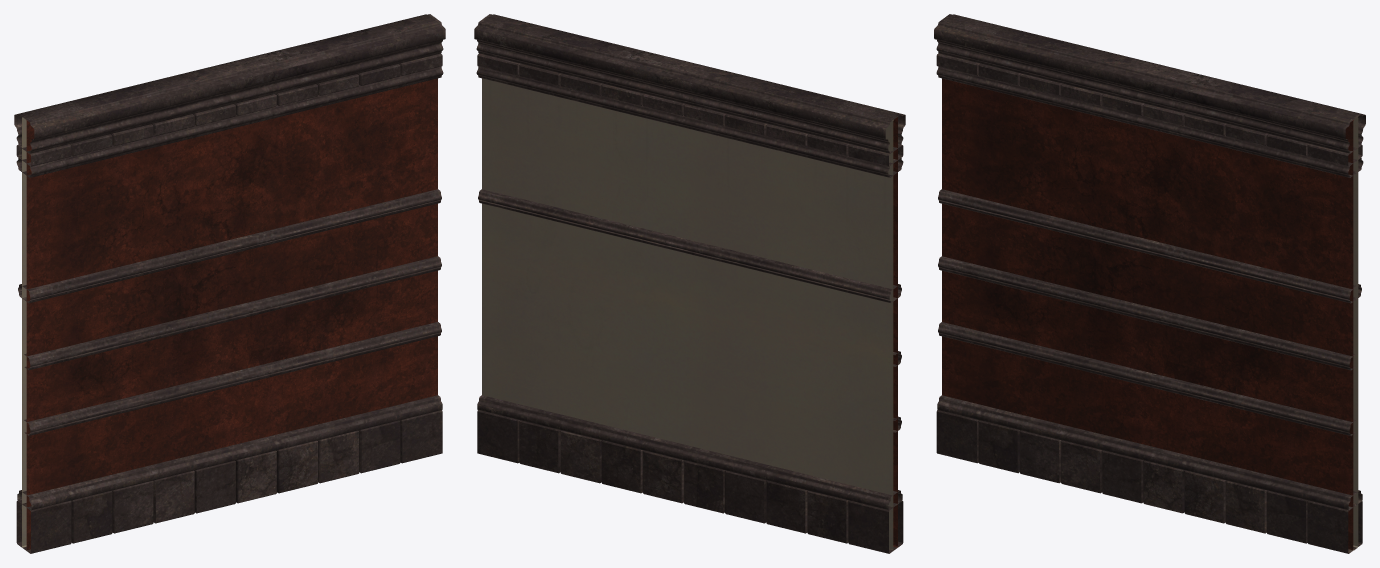
Rendered from SK2 WALL2.fbx.
3 views of the same model, side by side, from view 1: azimuth 30°, elevation 25°; view 2: azimuth 150°, elevation 25°; view 3: azimuth 330°, elevation 25° (orthographic).
Visible parts, largest first — view 1: SK2 WALL2.001; view 2: SK2 WALL2.001; view 3: SK2 WALL2.001.
Boxes of the visible parts, x1=… form: SK2 WALL2.001: x1=14, y1=14, x2=445, y2=553; SK2 WALL2.001: x1=474, y1=14, x2=905, y2=553; SK2 WALL2.001: x1=934, y1=14, x2=1365, y2=553.
Bounding box in the file's own units: 400 × 400 × 33.96.
